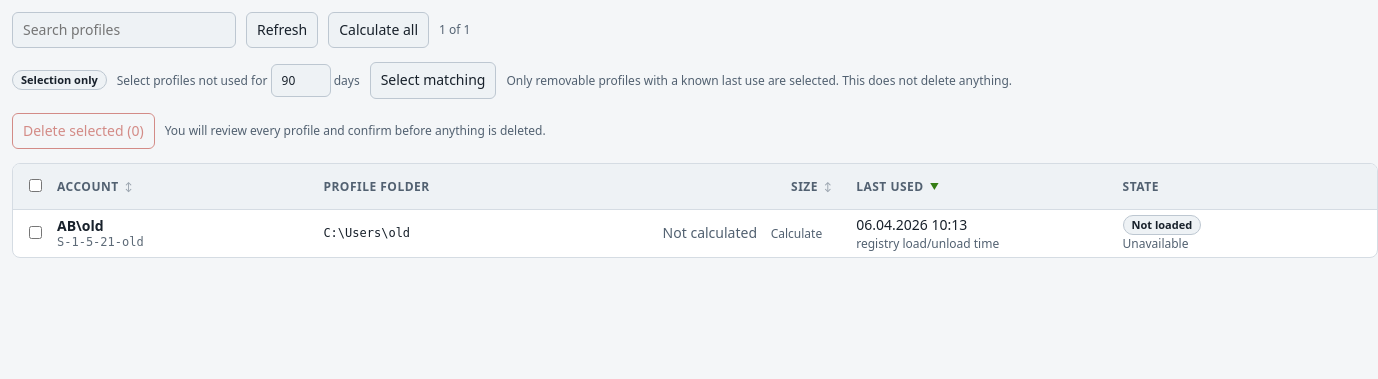
it: Profiles tab › shows per-profile reasons from a 400, resolved from the rows, as text
Step 1. Click the checkbox named "Select AB\\old" → click(36, 232), box [29,226,42,239]
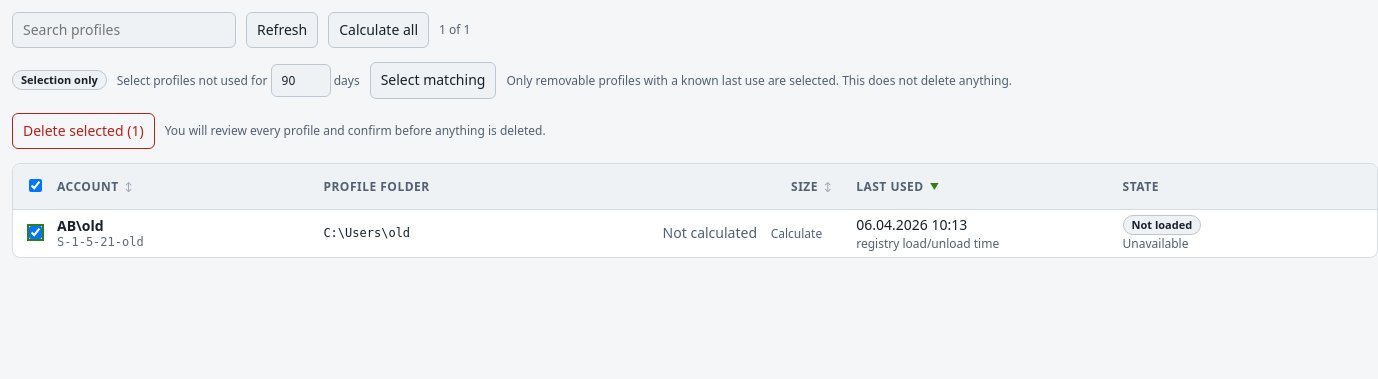
Step 2. Click the button "Delete selected (1)" → click(83, 131), box [12,113,155,149]
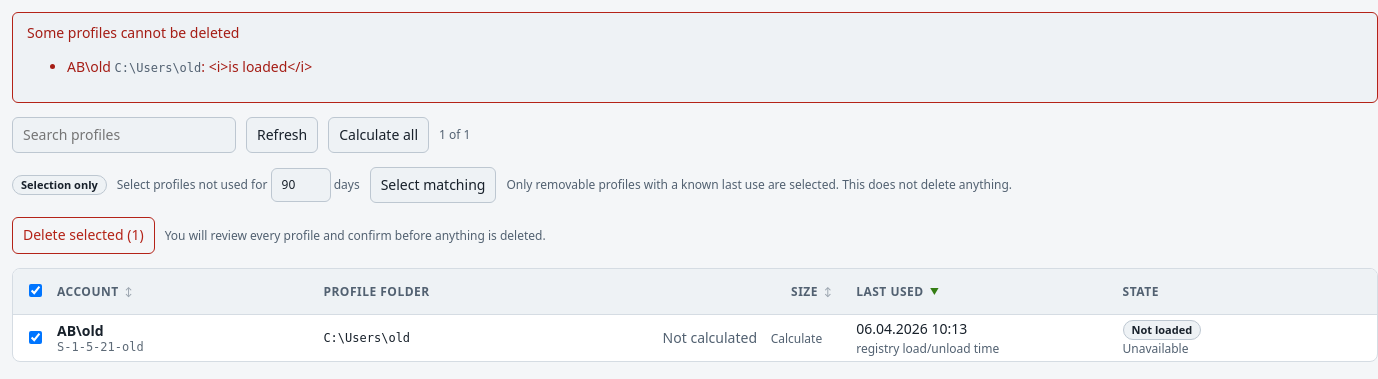
Now the list with test id "delete-reasons" shows "AB\\old", box [67,57,111,76]
Now the list with test id "delete-reasons" shows "C:\\Users\\old", box [115,61,201,75]
Now the list with test id "delete-reasons" shows "<i>is loaded</i>", box [209,57,312,76]
